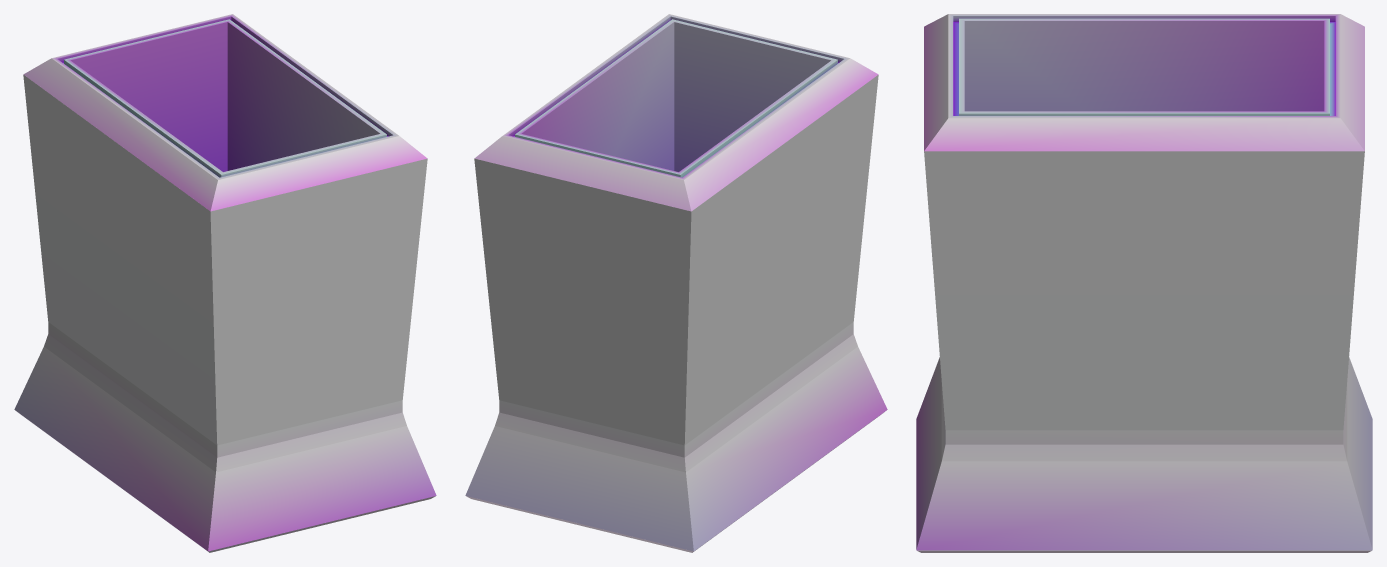
3 views of the same model, side by side, from view 1: azimuth 30°, elevation 25°; view 2: azimuth 150°, elevation 25°; view 3: azimuth 270°, elevation 25° (orthographic). The views are drawn at different scales.
Parts seen in each view (by area): view 1: wall_section; view 2: wall_section; view 3: wall_section.
Part boxes in pixels (x1,y1,x2,y2): wall_section: (14, 14, 436, 552); wall_section: (465, 14, 887, 552); wall_section: (916, 14, 1372, 552).
Size of the model in its own units: 0.3326 by 0.5 by 0.4885.
